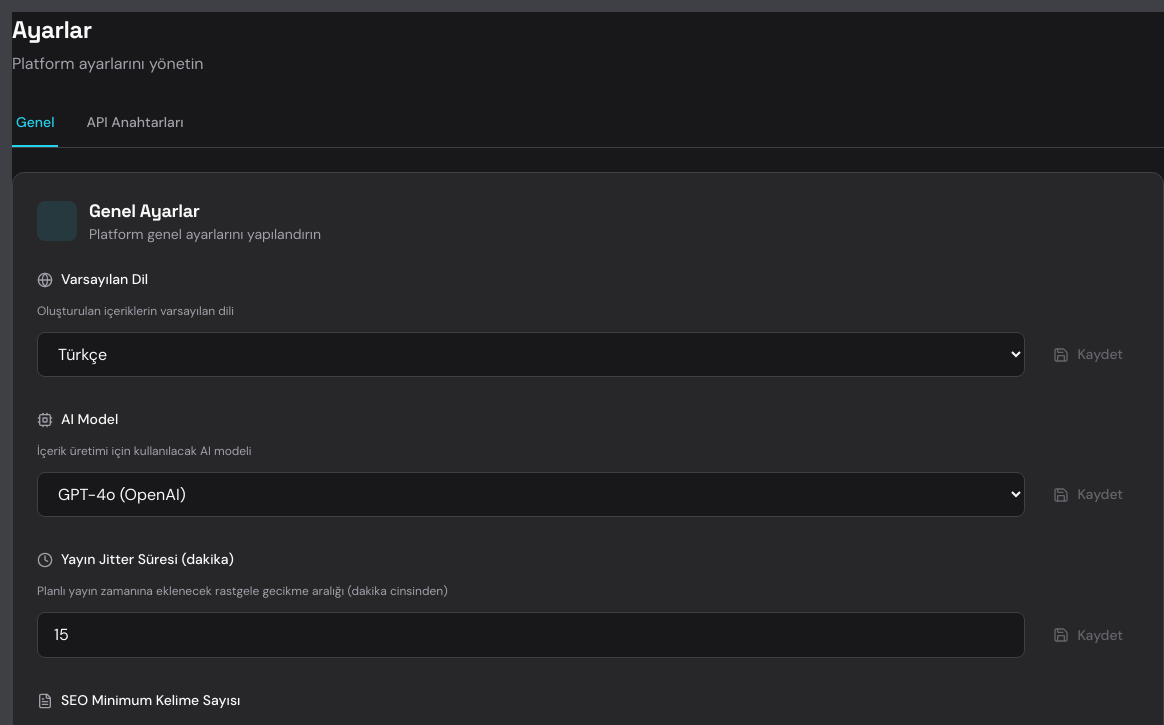
Test: Settings › enables save button when value changes
The width and height of the screenshot is (1164, 725).
Note: Change language
Select "English" in the dropdown labelled "Varsayılan Dil" at coordinates (531, 354), box [37, 332, 1026, 377]
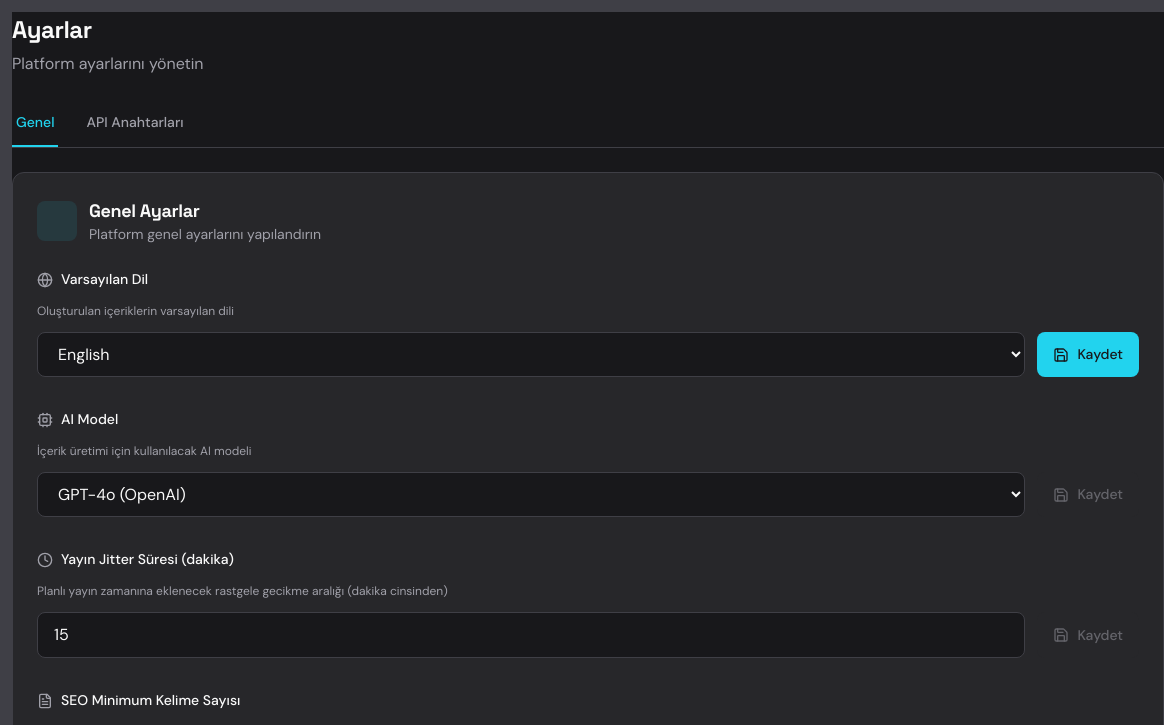
Expected: the 1st button "Kaydet" is enabled, [1038, 332, 1139, 377]
